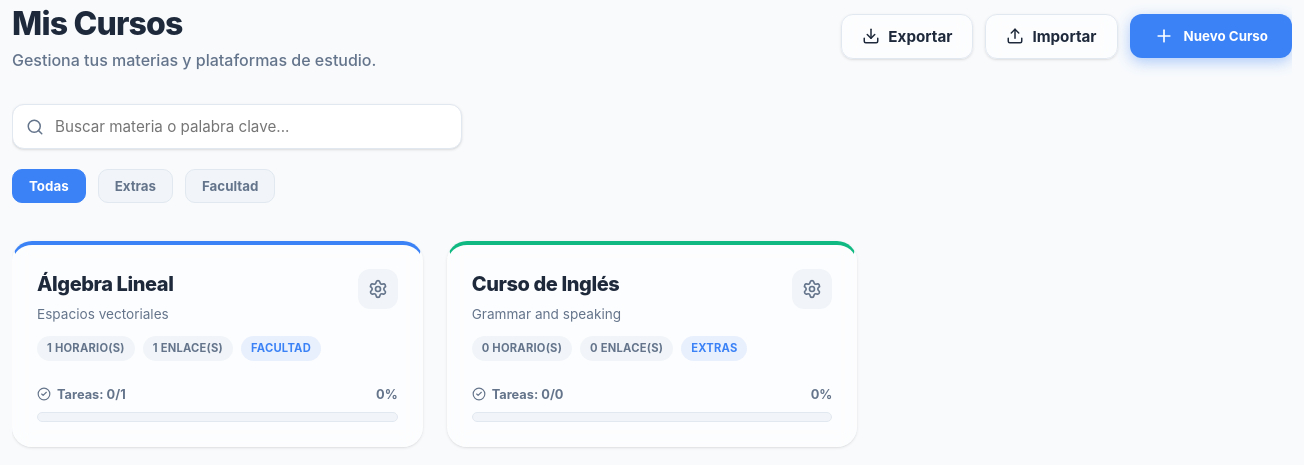
Scenario: Dashboard component › filters courses by category tabs
// Click on "Extras" tab
Click the button "Extras" at {"x": 135, "y": 186}, box [98, 169, 173, 203]
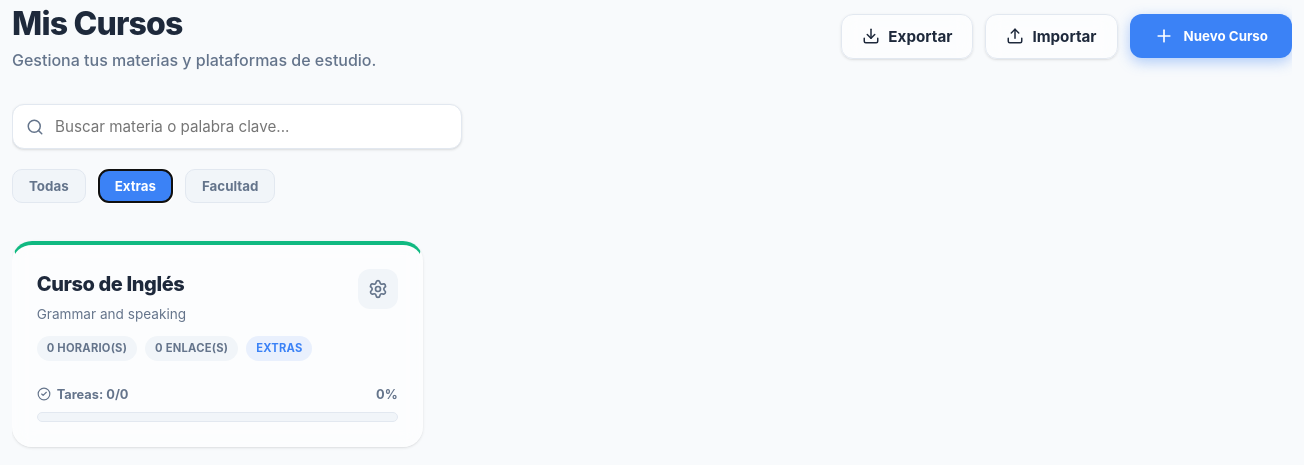
Expected: the heading "Curso de Inglés" is shown, [37, 272, 185, 296]
Expected: the heading "Álgebra Lineal" is gone
// Click on "Todas" tab
Click the button "Todas" at {"x": 49, "y": 186}, box [12, 169, 86, 203]
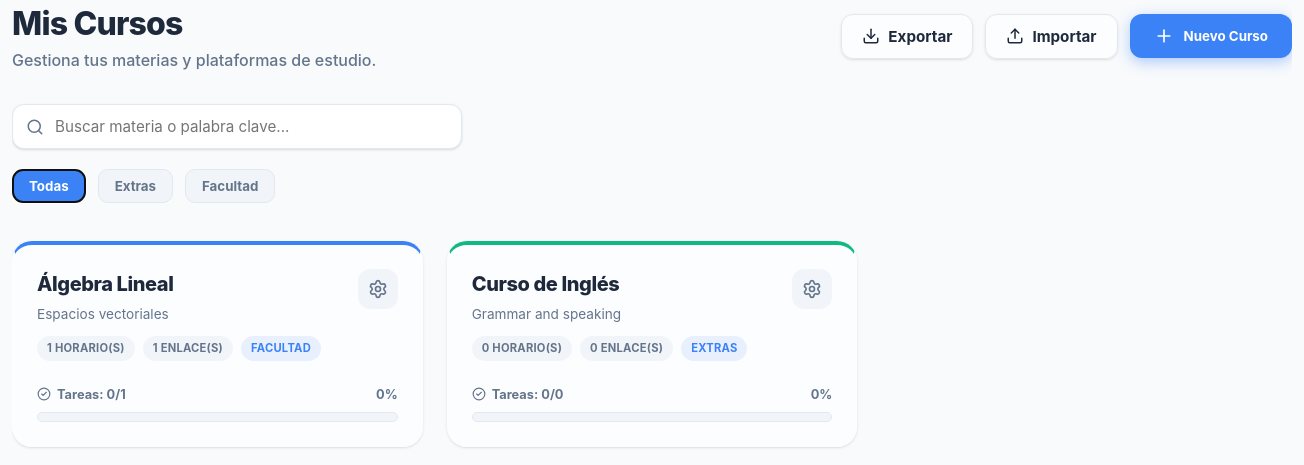
Expected: the heading "Curso de Inglés" is shown, [472, 272, 619, 296]
Expected: the heading "Álgebra Lineal" is shown, [37, 272, 174, 296]
